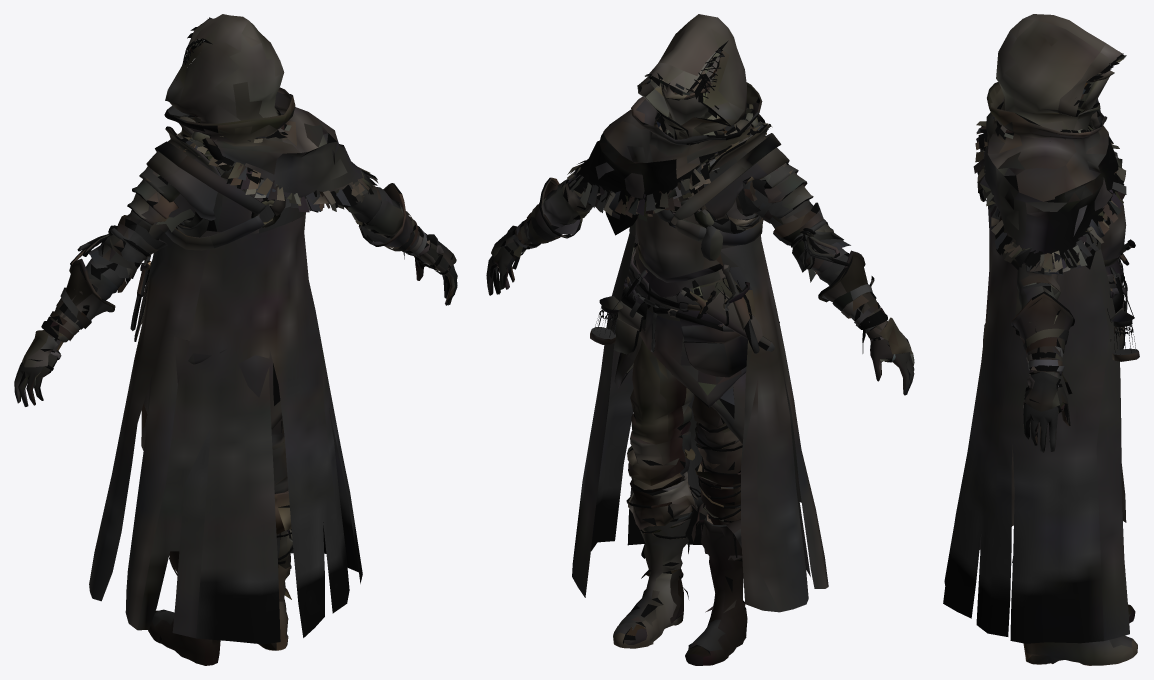
3 renders of one model, left to right at view 1: azimuth 30°, elevation 25°; view 2: azimuth 150°, elevation 25°; view 3: azimuth 270°, elevation 25°, orthographic. The views are drawn at different scales.
Visible parts, largest first — view 1: mesh_0; view 2: mesh_0; view 3: mesh_0.
Boxes of the visible parts, bbox=[...] form: mesh_0: bbox=[14, 14, 457, 665]; mesh_0: bbox=[486, 14, 914, 665]; mesh_0: bbox=[943, 14, 1139, 665].
Bounding box in the file's own units: 53.16 × 73.57 × 20.94.
1 material, 1 textured.
